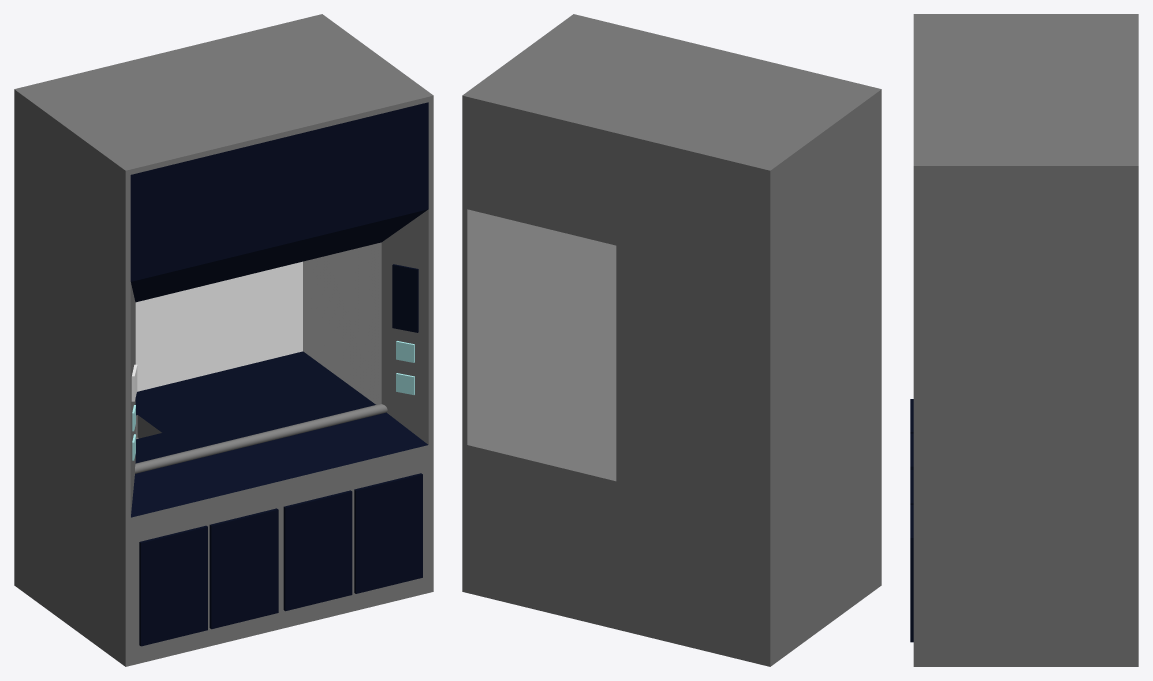
File: 通风橱.obj
3 views of the same model, side by side, from view 1: azimuth 30°, elevation 25°; view 2: azimuth 150°, elevation 25°; view 3: azimuth 270°, elevation 25° (orthographic).
Visible parts, largest first — view 1: guizi polySurface9, guizi polySurface8, guizi polySurface14, guizi polySurface10, guizi polySurface13, guizi polySurface12, guizi polySurface5; view 2: guizi polySurface9; view 3: guizi polySurface9, guizi polySurface13.
Boxes of the visible parts, x1,y1,x2,y2 form: guizi polySurface9: [14, 14, 433, 666]; guizi polySurface8: [283, 490, 352, 611]; guizi polySurface14: [209, 508, 278, 629]; guizi polySurface10: [139, 525, 207, 646]; guizi polySurface13: [354, 473, 422, 593]; guizi polySurface12: [135, 404, 387, 473]; guizi polySurface5: [392, 264, 418, 332]; guizi polySurface9: [462, 14, 881, 666]; guizi polySurface9: [913, 14, 1138, 666]; guizi polySurface13: [910, 505, 913, 642].
Size of the model in its own units: 17.93 by 27.59 by 11.4.
